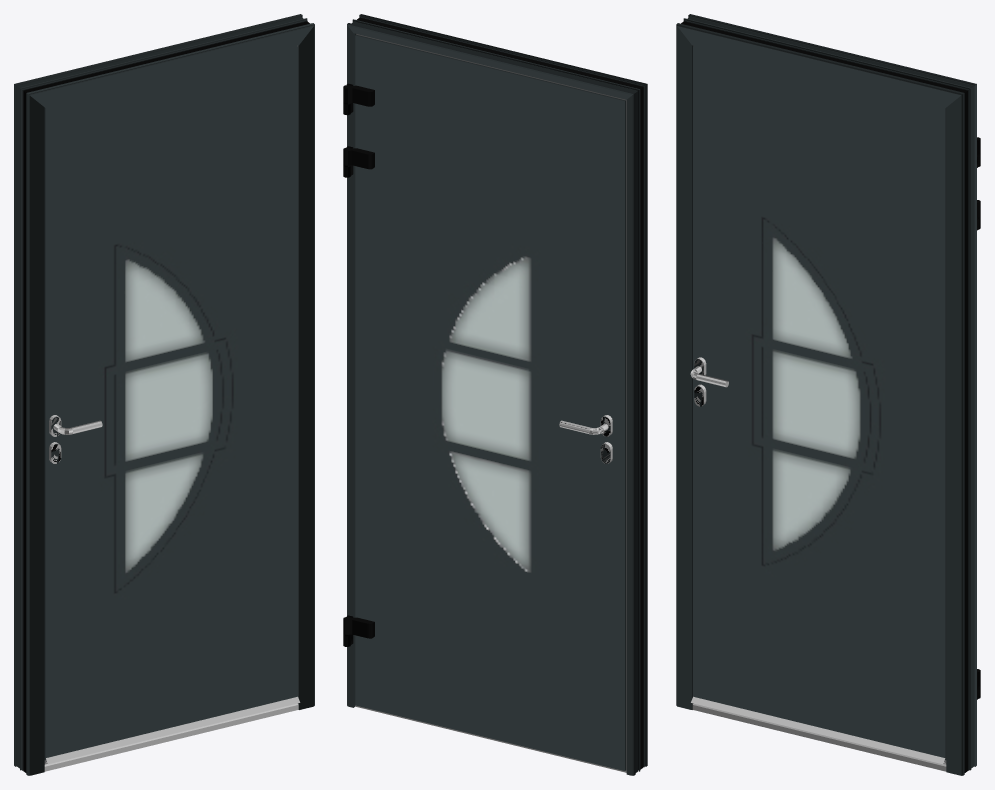
3 renders of one model, left to right at view 1: azimuth 30°, elevation 25°; view 2: azimuth 150°, elevation 25°; view 3: azimuth 330°, elevation 25°, orthographic.
Parts seen in each view (by area): view 1: ouvrant, 85; view 2: ouvrant, 85; view 3: ouvrant, 85.
Boxes of the visible parts, x1,y1,x2,y2 form: ouvrant: (44,46,300,764); 85: (14,14,314,775); ouvrant: (343,34,626,770); 85: (343,14,647,775); ouvrant: (691,46,980,764); 85: (676,14,980,775).
Bounding box in the file's own units: 96 × 218 × 22.64.
Materials: 1 (1 with a texture image).
